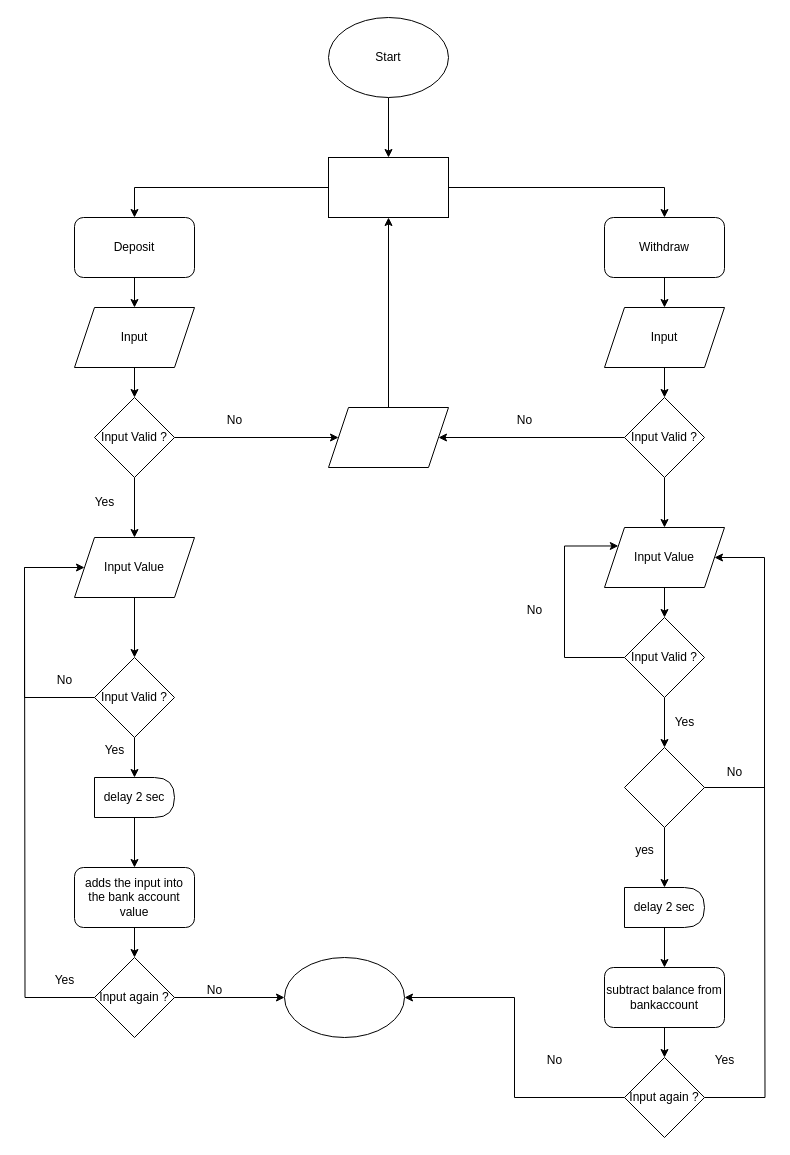
Image size: 790x1155. Some labels were removed from this diagram. The shapes that lost their labels are listed below. From the top down, each one's centre as x and y in pixels, then its label:
(388,187): Menu
(388,437): Show Error
(664,787): is the balance sufficient?
(344,997): End
